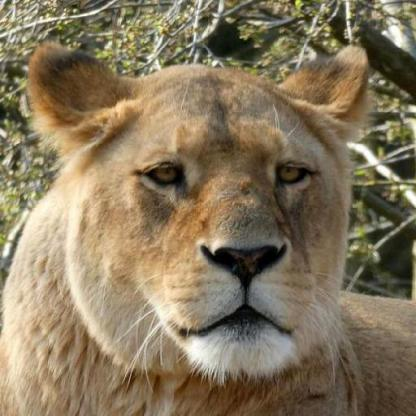lion: (16, 51, 372, 364)
